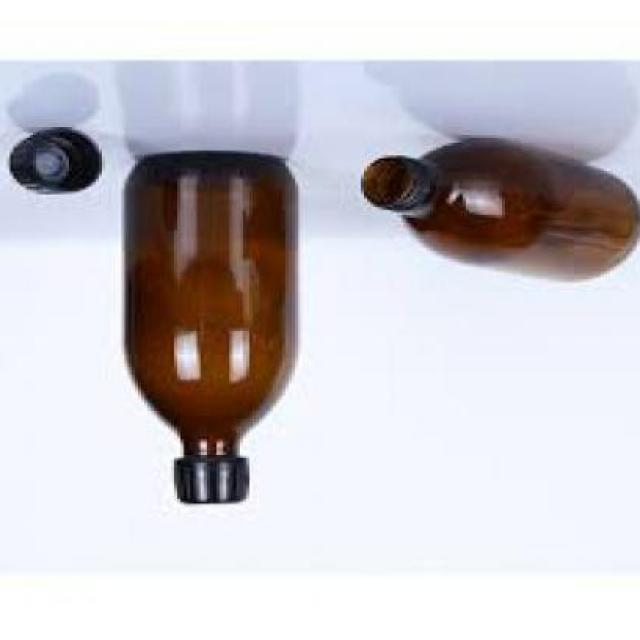kaca: (114, 153, 294, 460), (357, 140, 640, 285)
